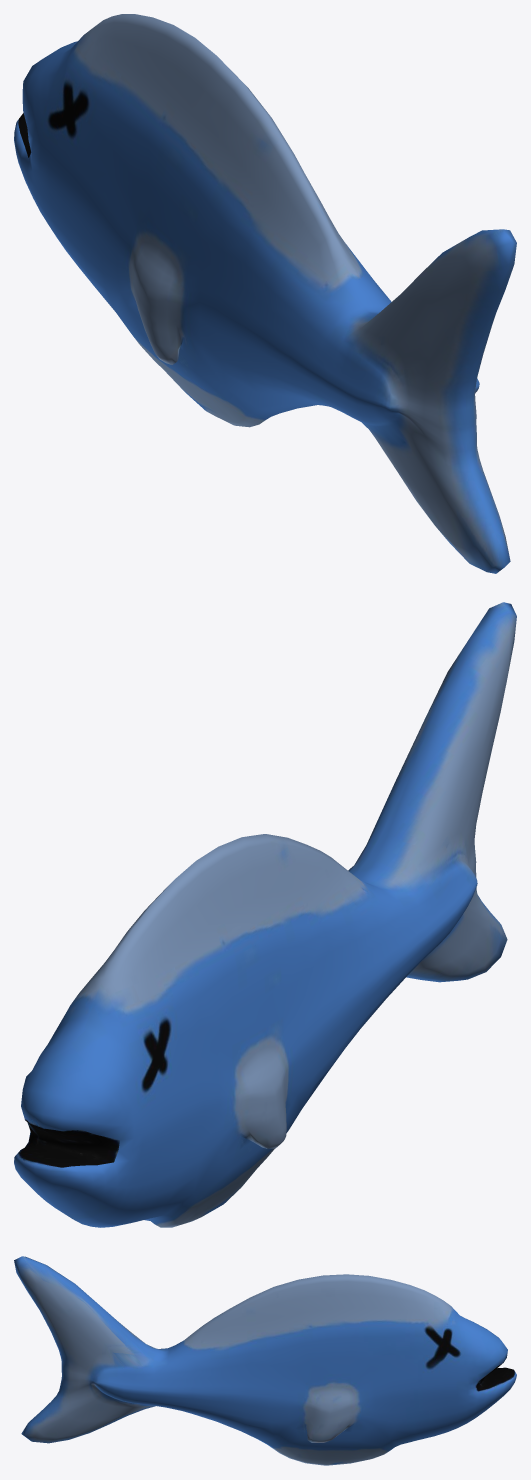
File: Fish_highPoly.fbx
The picture shows the model from 3 angles, top to bottom: view 1: azimuth 30°, elevation 25°; view 2: azimuth 150°, elevation 25°; view 3: azimuth 270°, elevation 25°; orthographic projection. The views are drawn at different scales.
Visible parts, largest first — view 1: pCube1; view 2: pCube1; view 3: pCube1.
Boxes of the visible parts, <box> form: pCube1: <box>14,14,516,573</box>; pCube1: <box>14,602,516,1227</box>; pCube1: <box>14,1256,516,1465</box>.
Bounding box in the file's own units: 1.86 × 5.39 × 11.72.
1 material, 1 textured.
